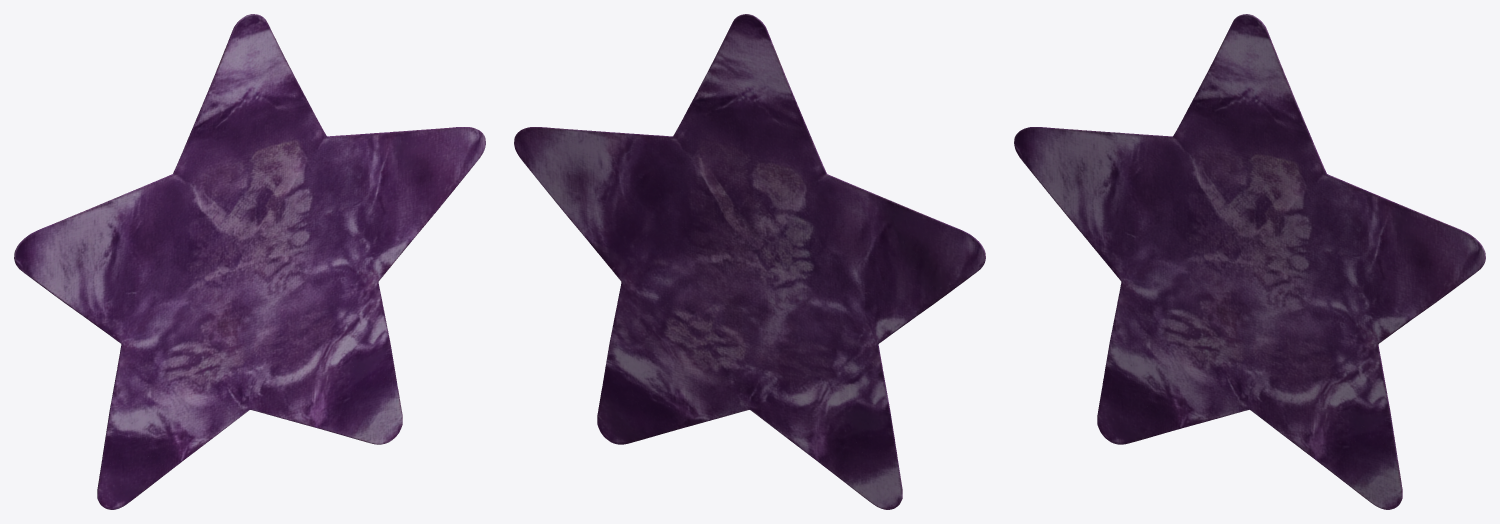
Rendered from purple_confetti.glb.
3 renders of one model, left to right at view 1: azimuth 30°, elevation 25°; view 2: azimuth 150°, elevation 25°; view 3: azimuth 330°, elevation 25°, orthographic.
Parts seen in each view (by area): view 1: world; view 2: world; view 3: world.
Part boxes in pixels (x1,y1,x2,y2): world: (14,14,485,509); world: (514,14,985,509); world: (1014,14,1485,509).
Size of the model in its own units: 1 by 0.9379 by 0.00307.
Materials: 1 (1 with a texture image).
